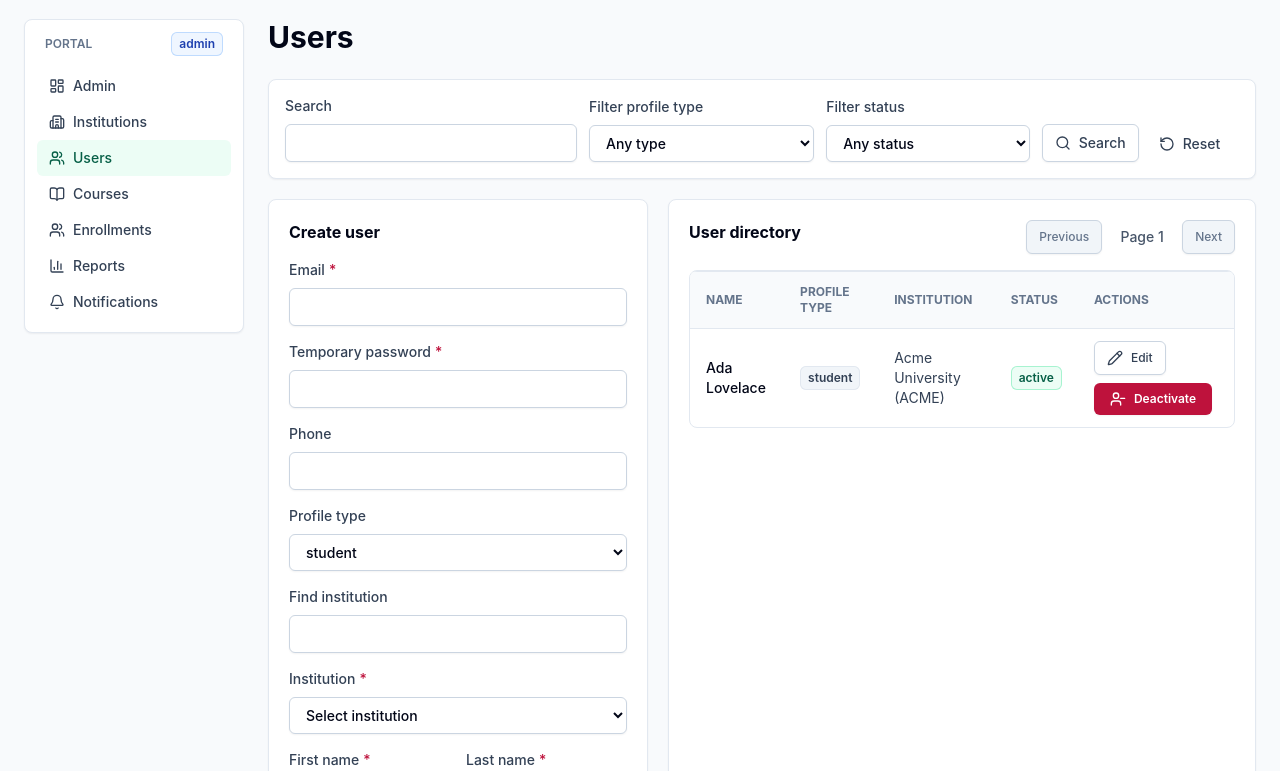
Test: create user API failure displays an error state
Expected: the heading "Users" is shown, 268,19 -> 354,55
Select "Acme University (ACME)" in the dropdown labelled "Institution*". click: (458, 716)
box: 289,697 -> 627,734
Type "duplicate@example.com" into the field labelled "Email*". click: (458, 307)
box: 289,288 -> 627,326
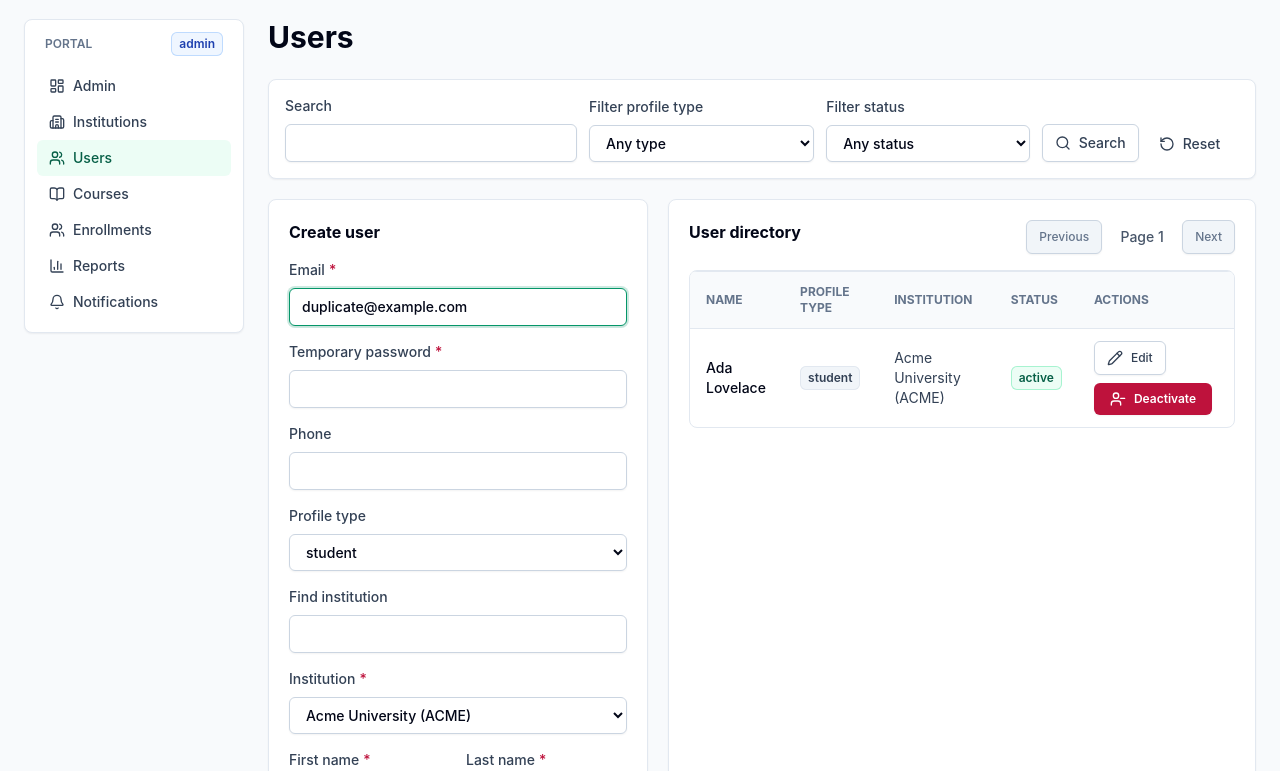
Type "Temporary123!" into the password field labelled "Temporary password*". click: (458, 389)
box: 289,370 -> 627,408
(page scrolled)
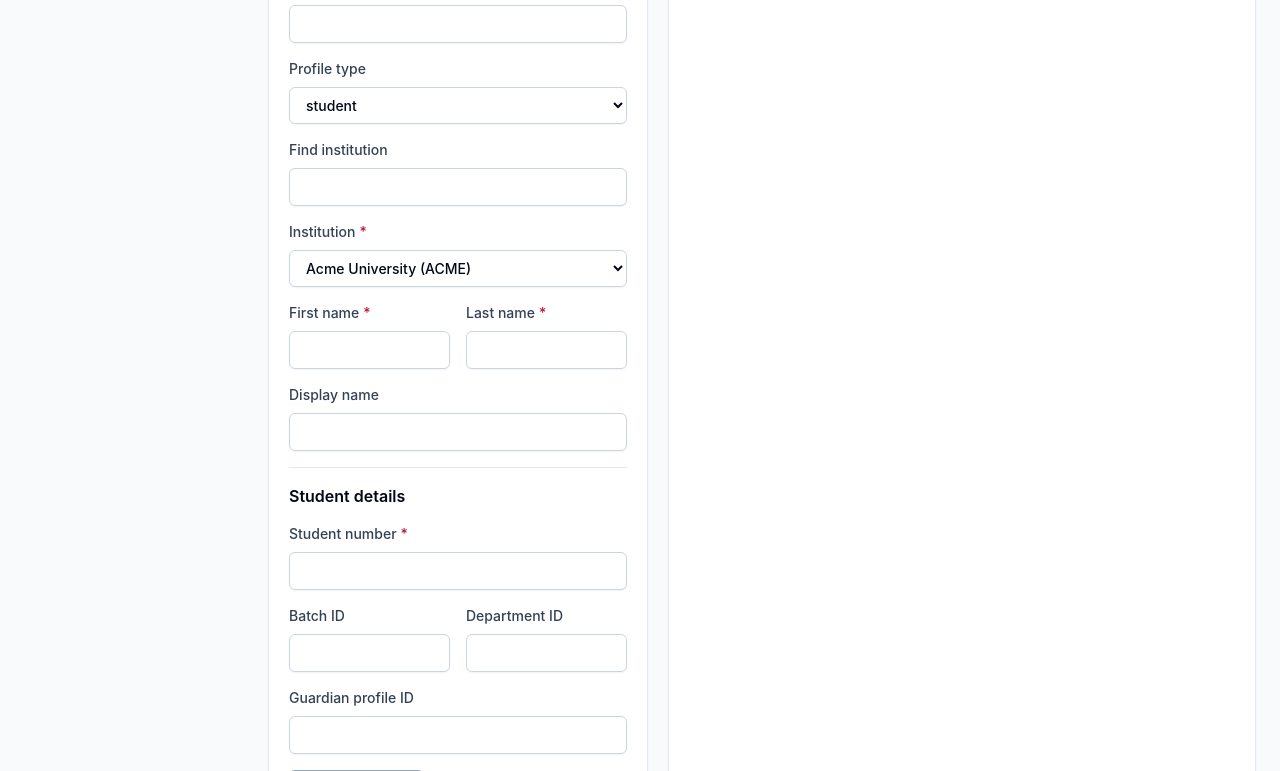
Type "Duplicate" into the field labelled "First name*". click: (370, 350)
box: 289,331 -> 450,369
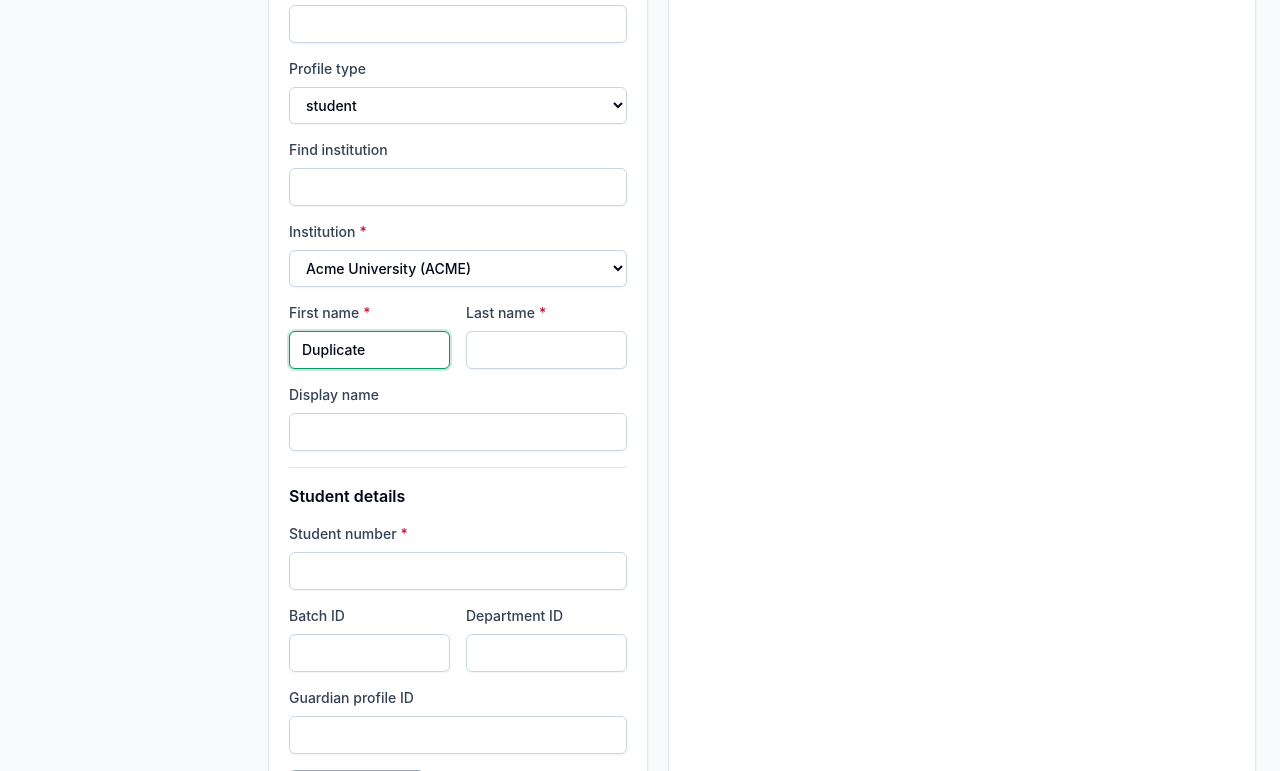
Type "Student" into the field labelled "Last name*". click: (546, 350)
box: 466,331 -> 627,369
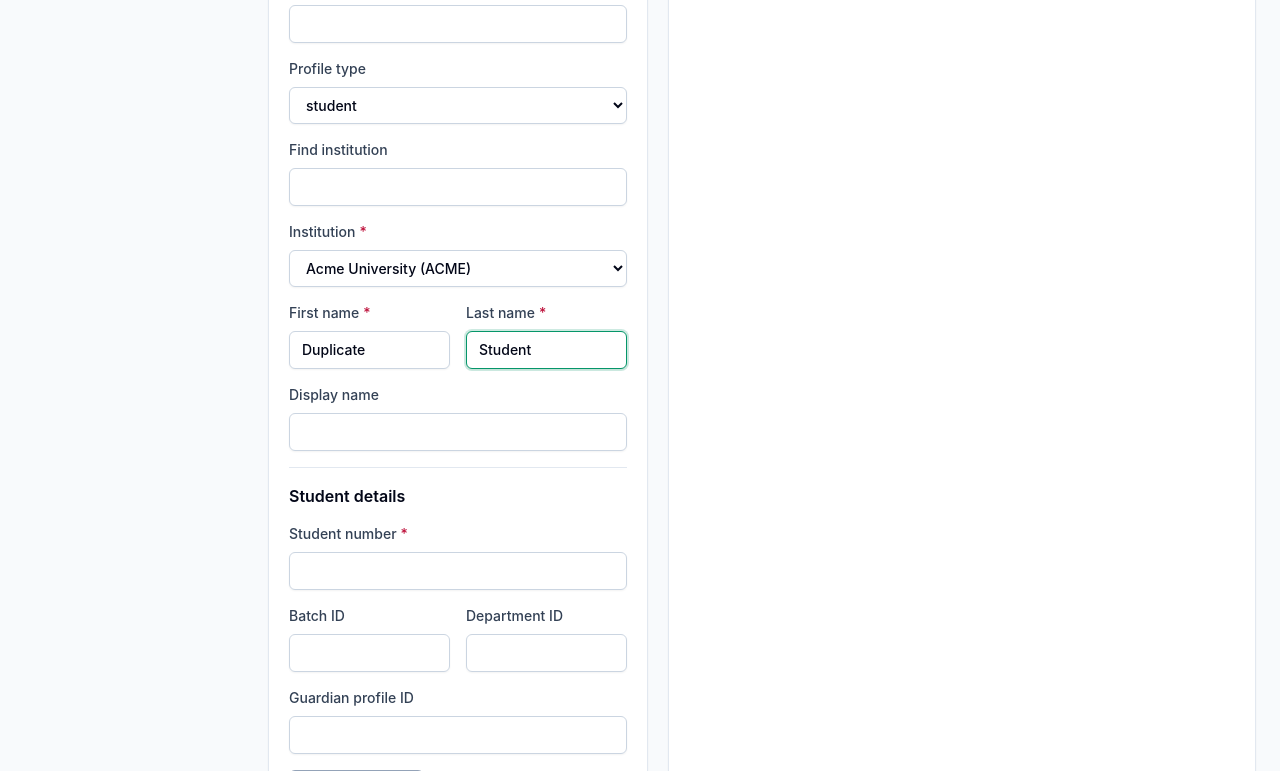
Type "STU-DUP" into the field labelled "Student number*". click: (458, 571)
box: 289,552 -> 627,590
(page scrolled)
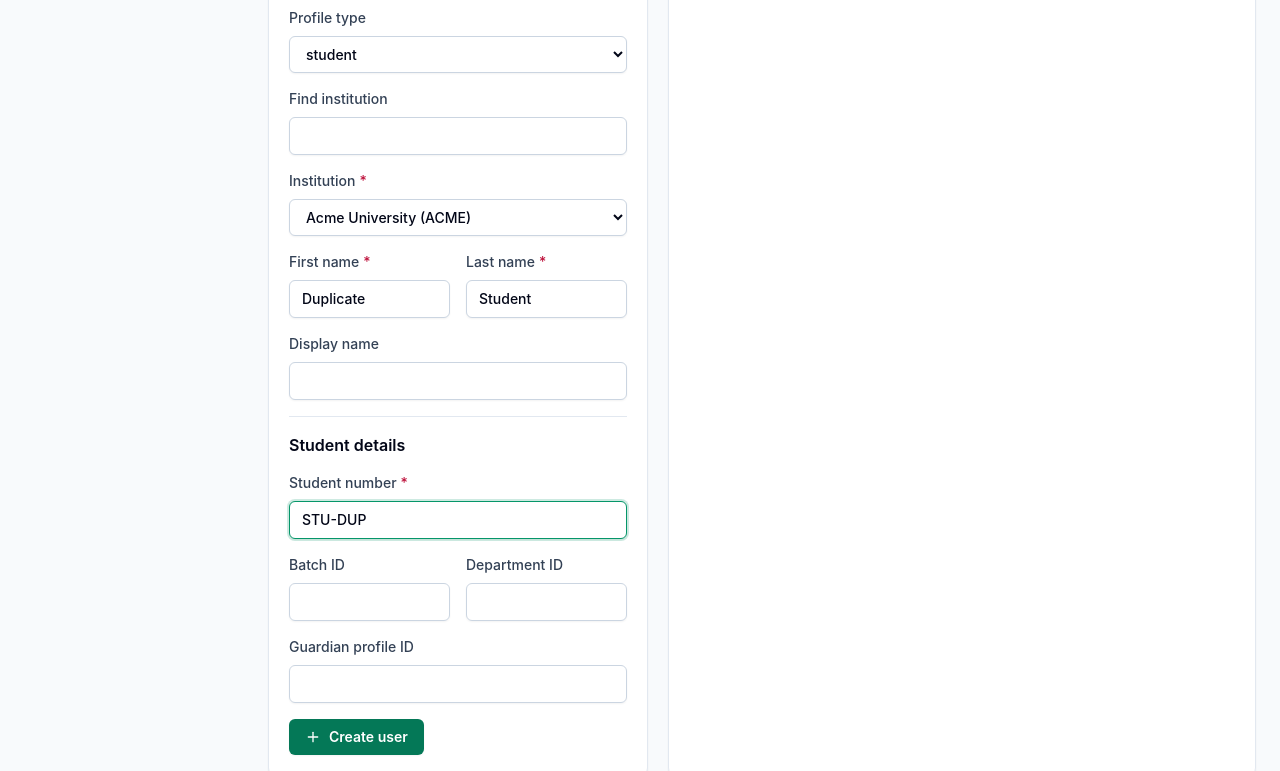
Click the button "Create user". click: (356, 737)
box: 289,719 -> 424,755
(page scrolled)
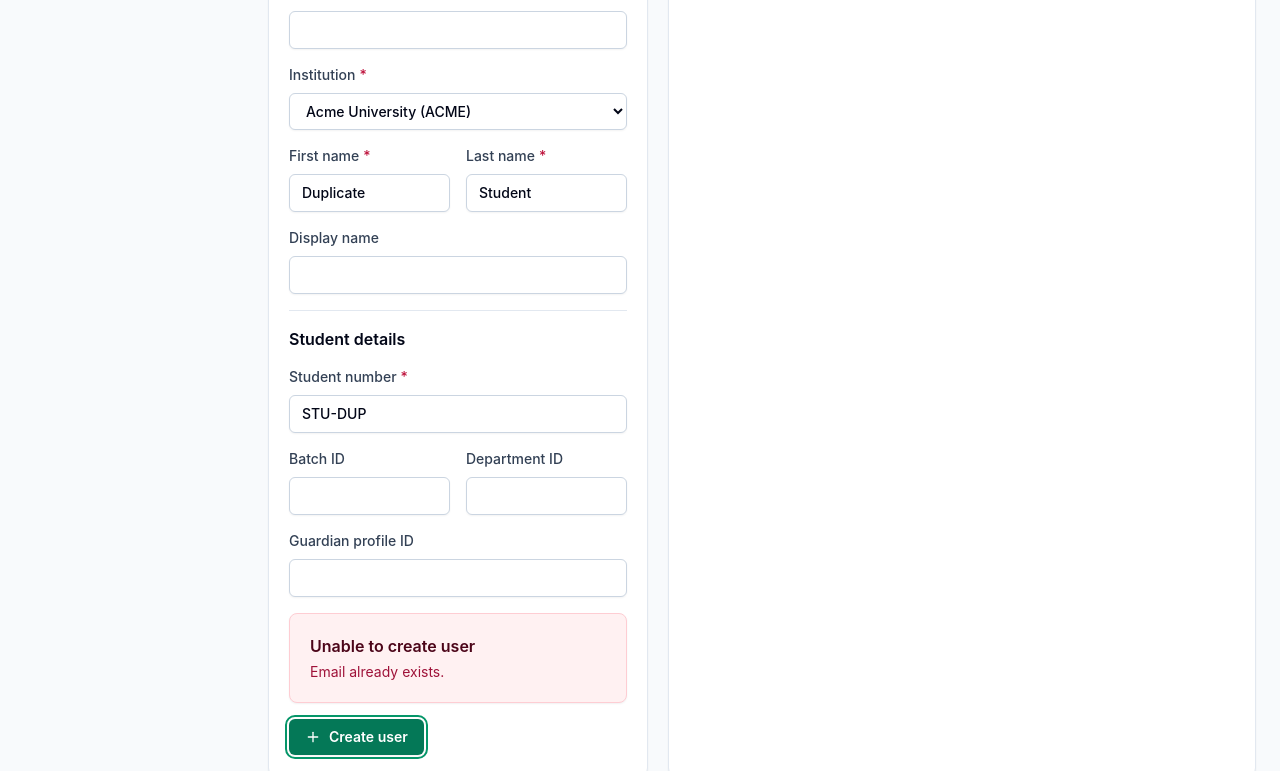
Result: the message shows "Email already exists." at 310,663 -> 444,680
